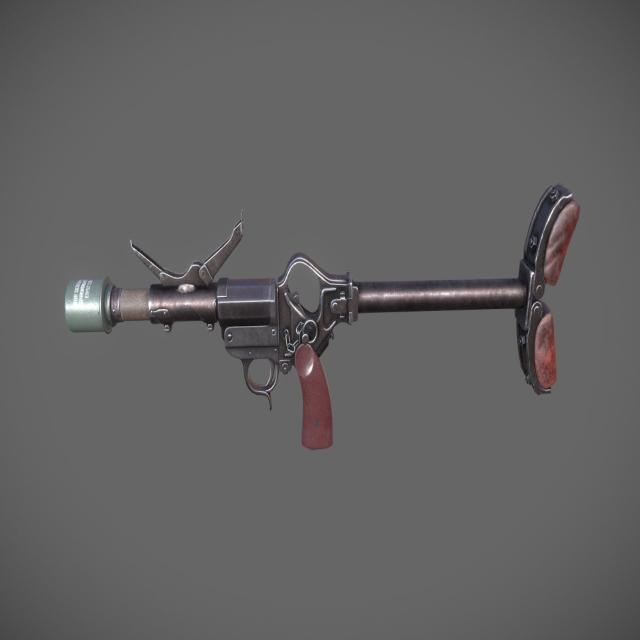Weapon: (64, 184, 579, 449)
